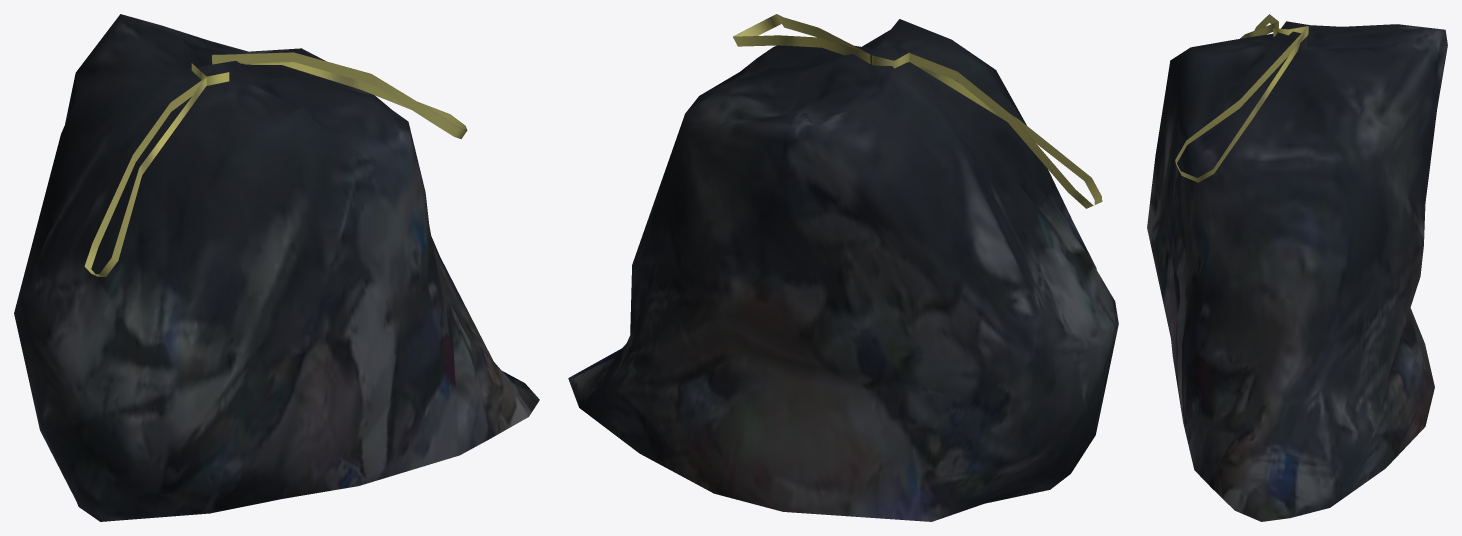
Rendered from binbag_a.glb.
3 views of the same model, side by side, from view 1: azimuth 30°, elevation 25°; view 2: azimuth 150°, elevation 25°; view 3: azimuth 270°, elevation 25° (orthographic). The views are drawn at different scales.
Parts seen in each view (by area): view 1: Binbag_a; view 2: Binbag_a; view 3: Binbag_a.
Boxes of the visible parts, x1,y1,x2,y2 form: Binbag_a: [14, 14, 539, 521]; Binbag_a: [568, 14, 1118, 521]; Binbag_a: [1147, 14, 1447, 521].
Size of the model in its own units: 0.9443 by 0.7362 by 0.5529.
Materials: 1 (1 with a texture image).
